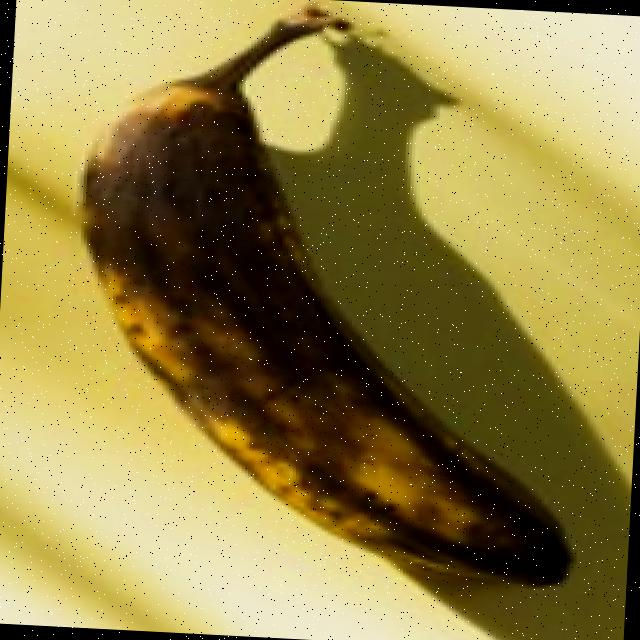Rotten: (39, 0, 640, 618)
